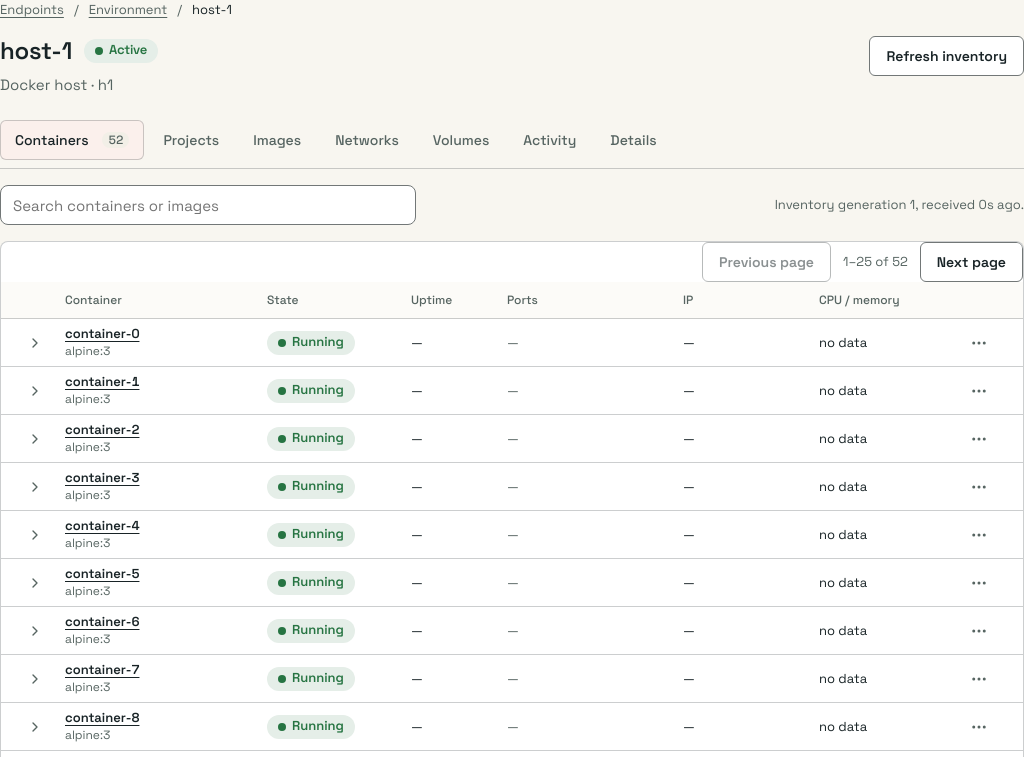
Test: pages host containers and resets pagination when searching
This screenshot has width=1024, height=757.
expect the link "container-0" is shown: met, box 65,326 -> 140,343
Click the button "Next page" at (971, 262), box 920,242 -> 1023,282
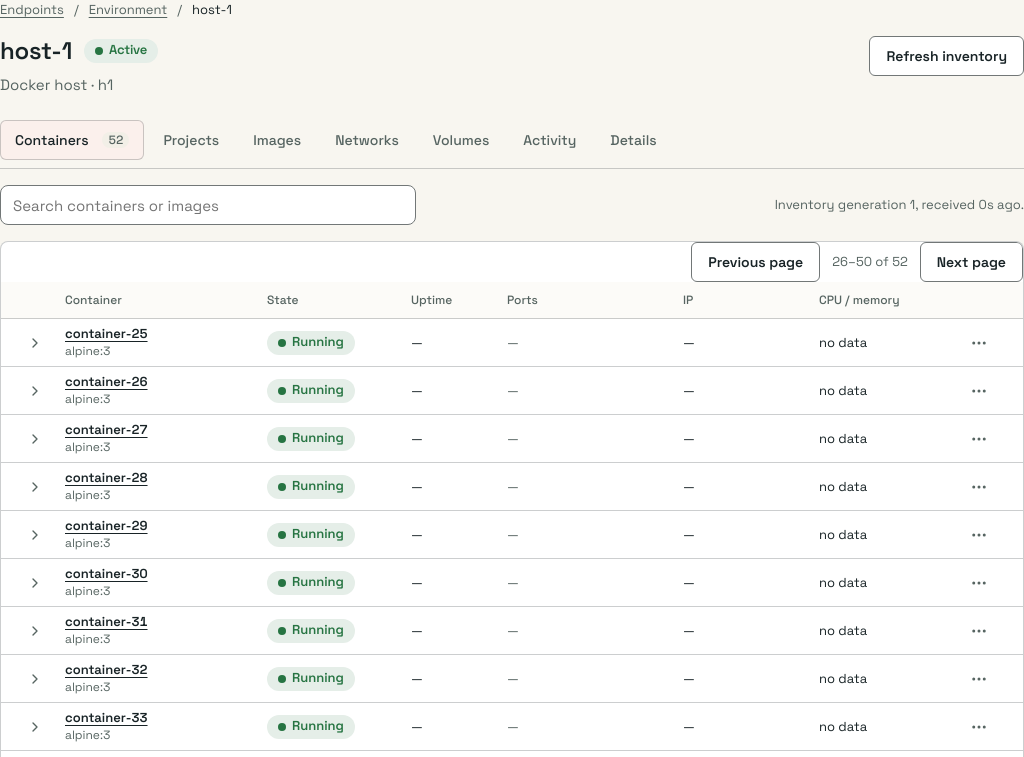
expect the link "container-25" is shown: met, box 65,326 -> 148,343
Type "container-51" into the search field at (208, 205), box 0,185 -> 416,225
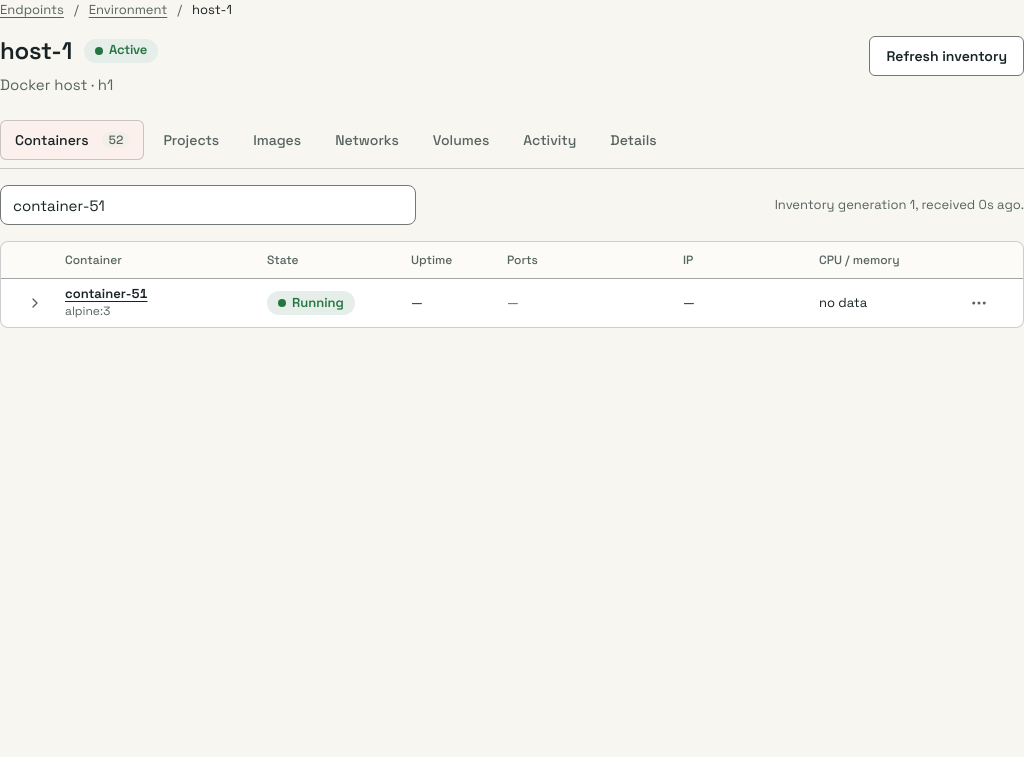
expect the link "container-51" is shown: met, box 65,286 -> 148,303
expect the number of rows is 2: met, box 1,242 -> 1023,278; 1,278 -> 1023,326
Clear the search field at (208, 205), box 0,185 -> 416,225
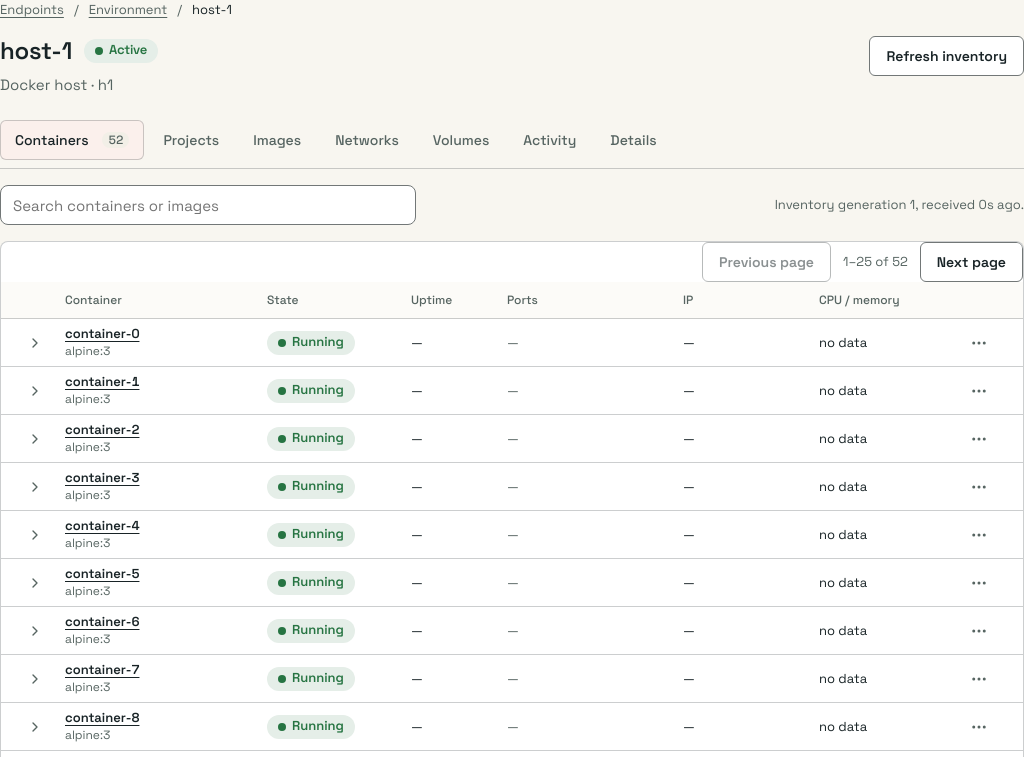
expect the text "1–25 of 52" is shown: met, box 843,252 -> 908,272
